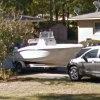Boat: (8, 32, 83, 74)
